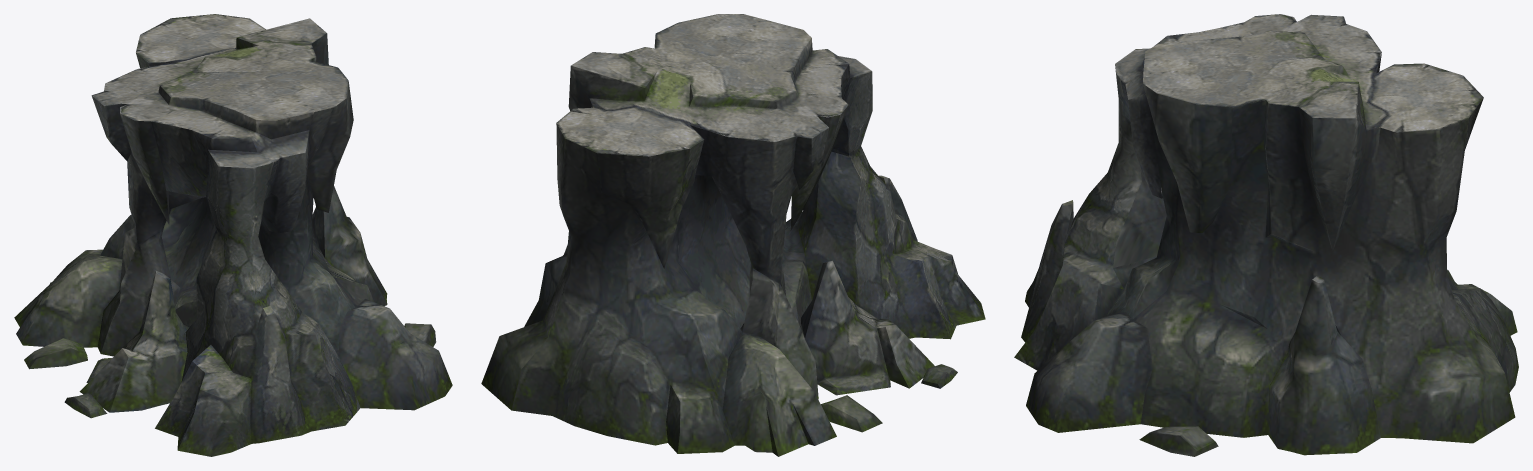
Rendered from dx_shitou_3.FBX.
The picture shows the model from 3 angles, left to right: view 1: azimuth 30°, elevation 25°; view 2: azimuth 150°, elevation 25°; view 3: azimuth 270°, elevation 25°; orthographic projection. The views are drawn at different scales.
Parts seen in each view (by area): view 1: dx_shitou_3; view 2: dx_shitou_3; view 3: dx_shitou_3.
Part boxes in pixels (box(x1,y1,x2,y2)): dx_shitou_3: box(14, 14, 452, 456); dx_shitou_3: box(481, 14, 985, 456); dx_shitou_3: box(1014, 14, 1518, 456).
Bounding box in the file's own units: 836 × 625 × 918.
